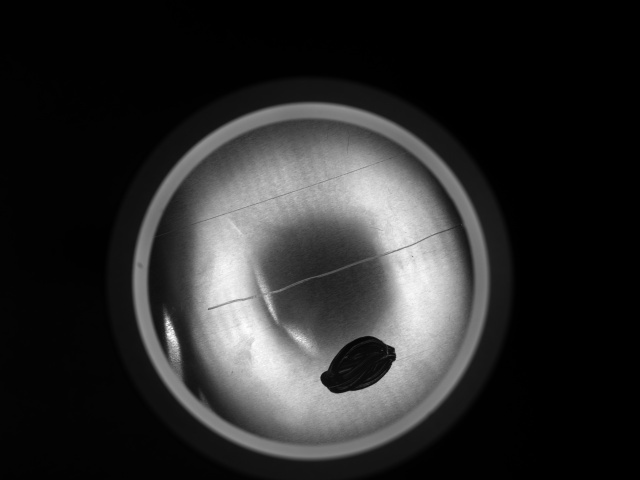ca_shang: (200, 224, 459, 314), (186, 154, 401, 227)
zang_wu: (318, 334, 401, 395)
